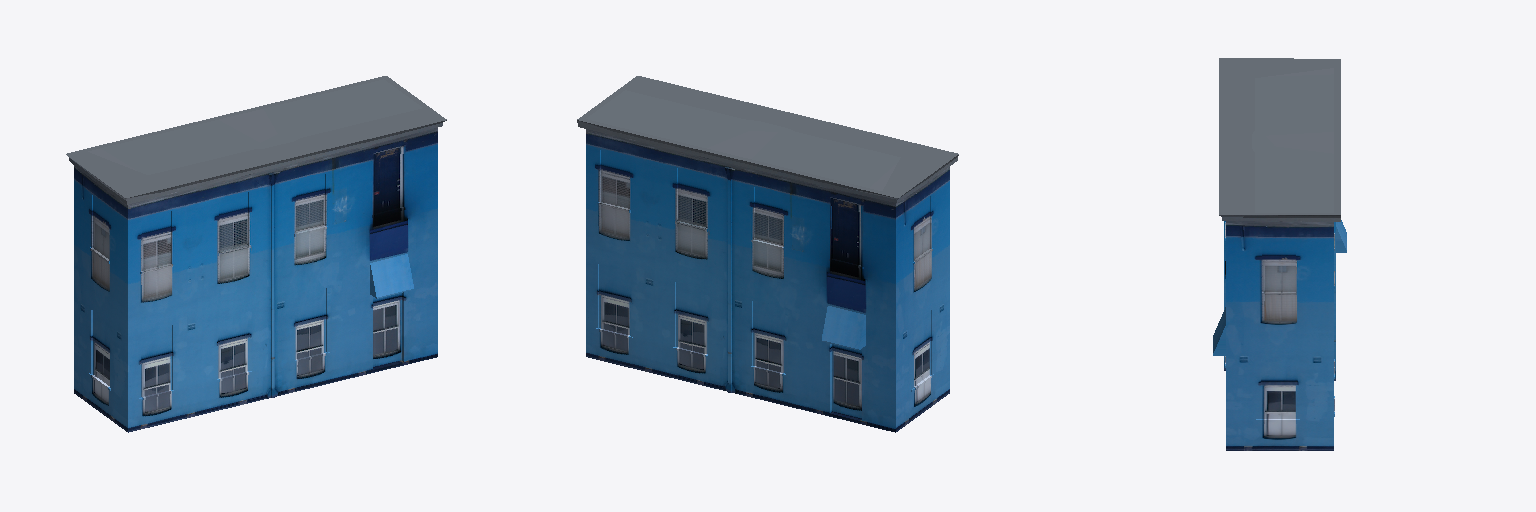
The picture shows the model from 3 angles: view 1: azimuth 30°, elevation 25°; view 2: azimuth 150°, elevation 25°; view 3: azimuth 270°, elevation 25°; orthographic projection.
Visible parts, largest first — view 1: Plane01; view 2: Plane01; view 3: Plane01.
Boxes of the visible parts, x1,y1,x2,y2 form: Plane01: [66, 76, 446, 432]; Plane01: [577, 76, 958, 432]; Plane01: [1213, 58, 1346, 450].
Bounding box in the file's own units: 2834 × 2004 × 1026.
1 materials, 1 textured.